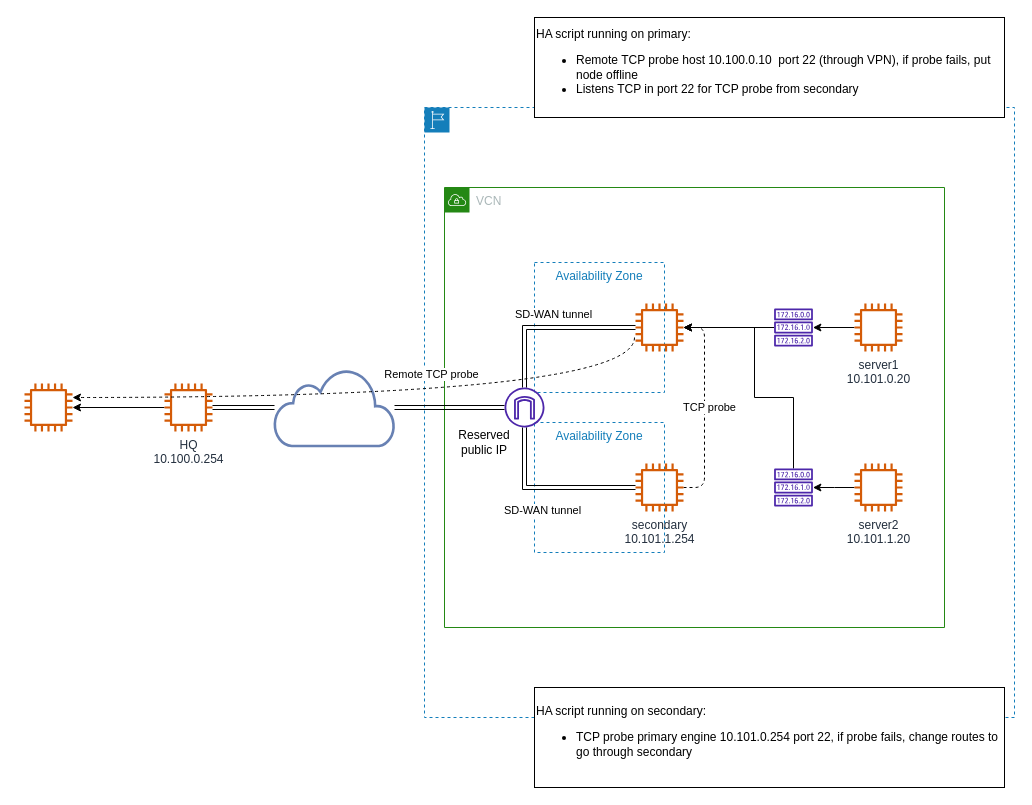
Image size: 1032x805. Some labels were removed from this diagram. Each missing label, with the box of its shape:
client 10.100.0.10: (24, 383, 72, 431)
Internet: (273, 368, 395, 446)
primary 10.101.0.254: (635, 303, 683, 351)
Region: (424, 106, 1014, 718)
